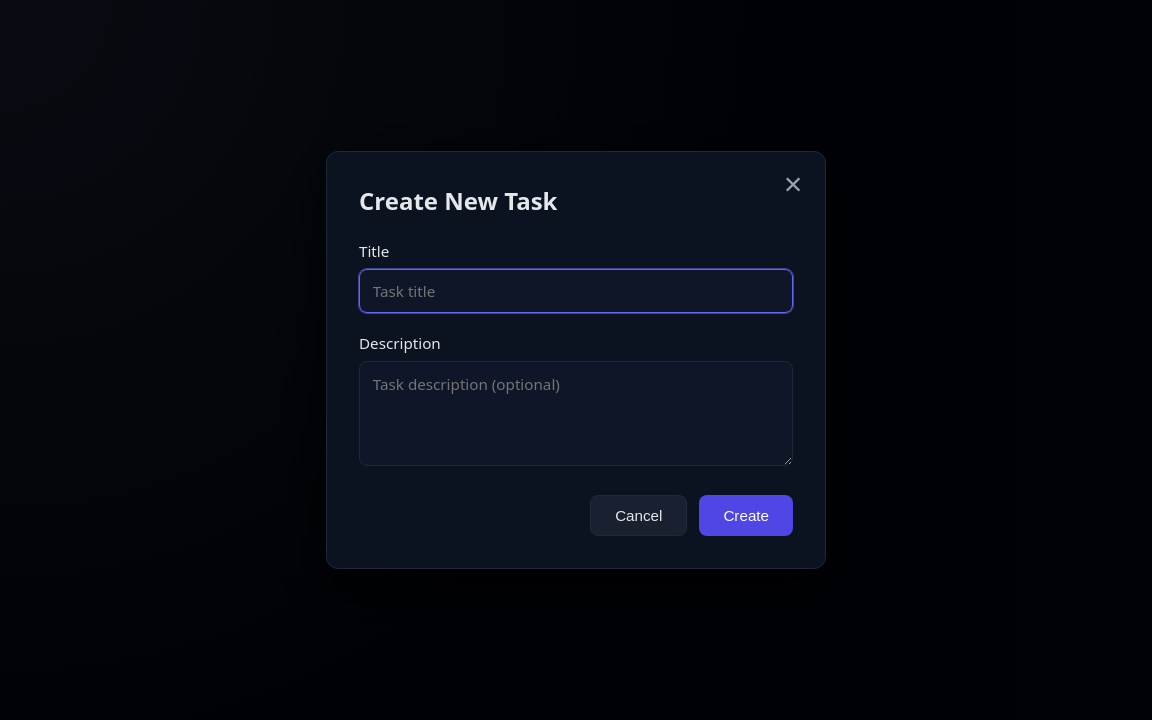
it: CreateTaskModal › shows error message when creation fails
This screenshot has width=1152, height=720.
Type "Test Task" into the field with test id "input-task-title" at (576, 291), box [359,269,793,313]
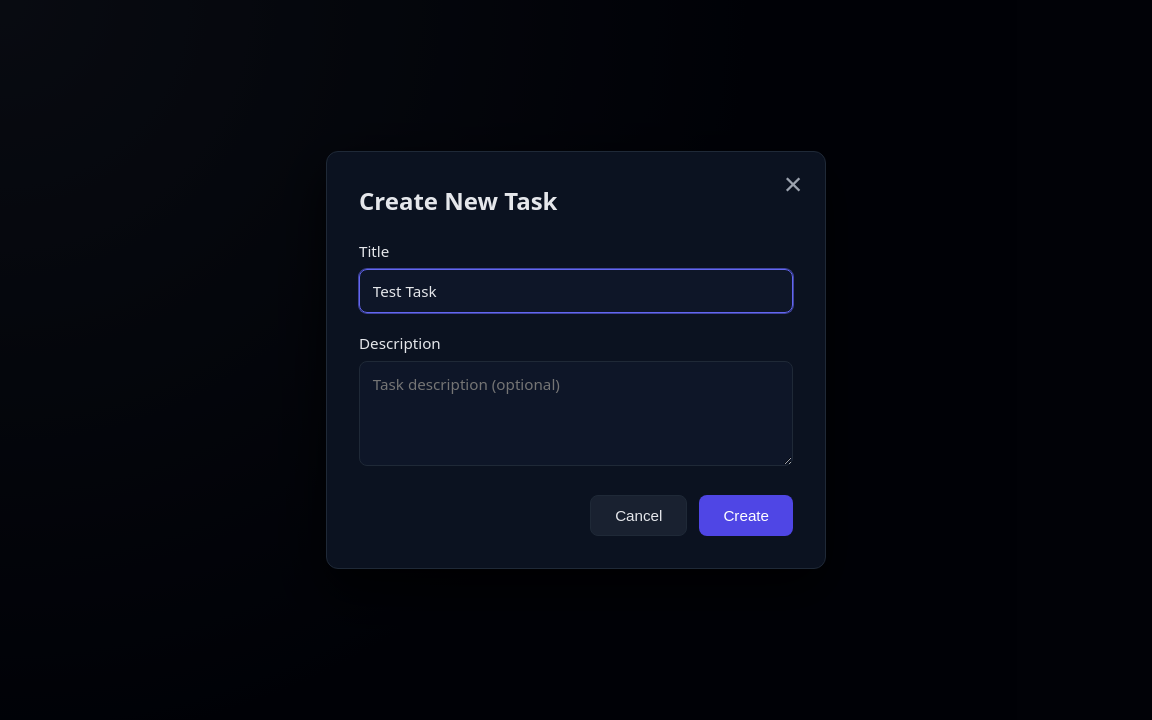
Click the button with test id "btn-create" at (746, 515), box [699,495,793,536]
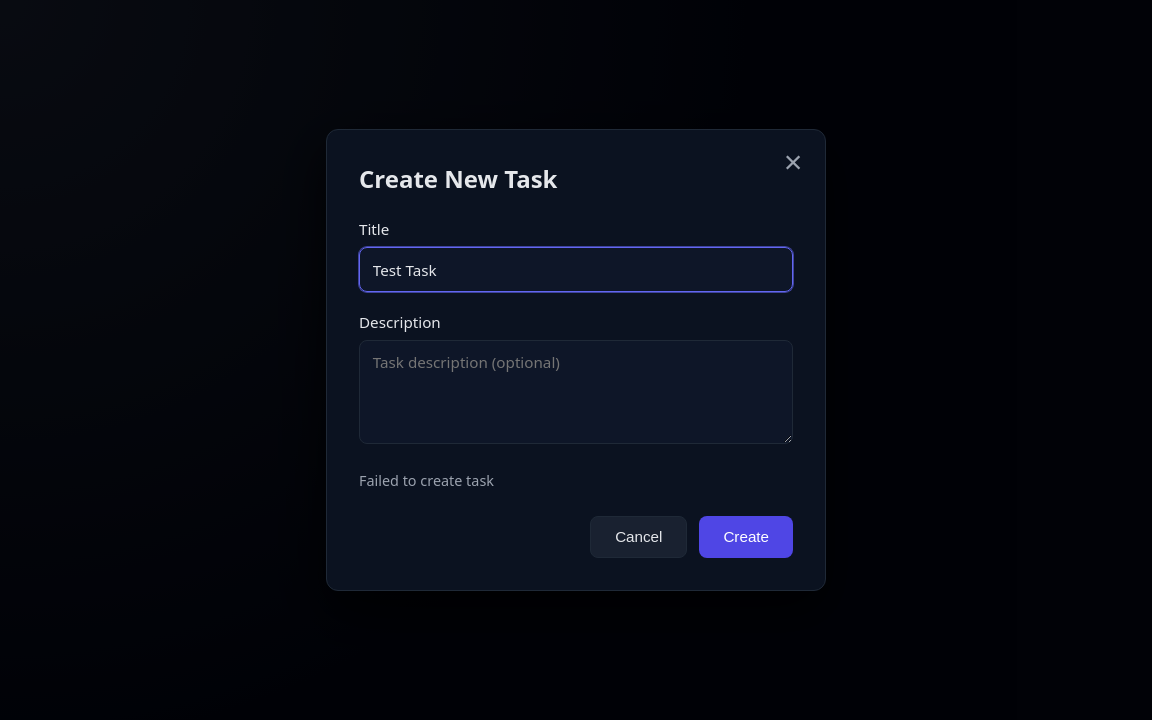
Expected: the text "Failed to create task" is shown, [359,471,494,490]
